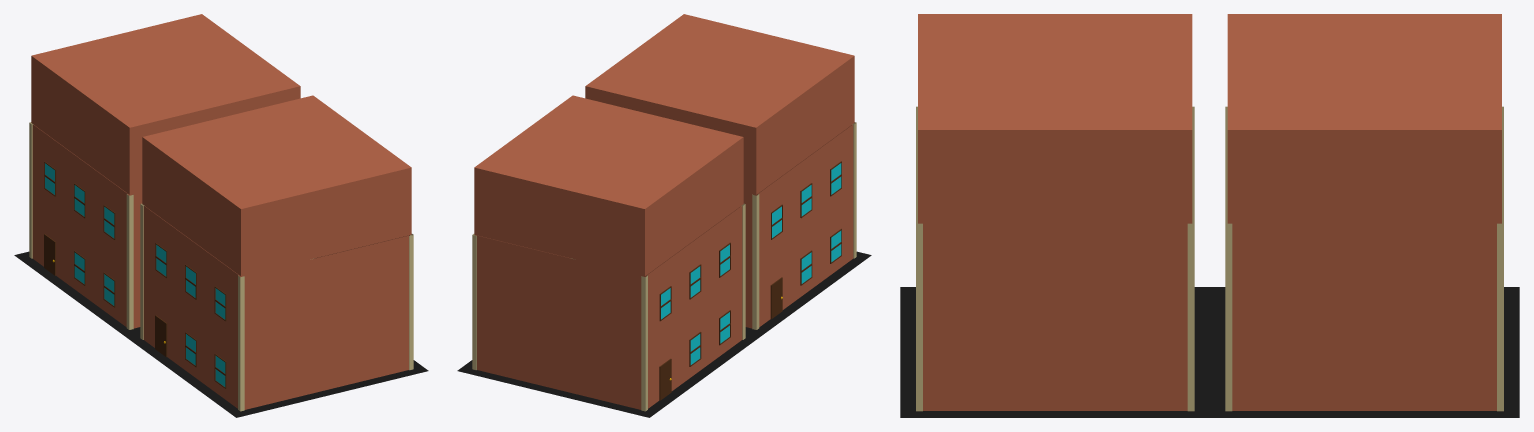
Rendered from Buildings3.fbx.
The picture shows the model from 3 angles, left to right: view 1: azimuth 30°, elevation 25°; view 2: azimuth 150°, elevation 25°; view 3: azimuth 270°, elevation 25°; orthographic projection. The views are drawn at different scales.
Visible parts, largest first — view 1: Buildings 1.003; view 2: Buildings 1.003; view 3: Buildings 1.003.
Part boxes in pixels (x1,y1,x2,y2): Buildings 1.003: [14, 14, 428, 417]; Buildings 1.003: [457, 14, 871, 417]; Buildings 1.003: [900, 14, 1519, 417].
Size of the model in its own units: 3000 by 1500 by 1500.
